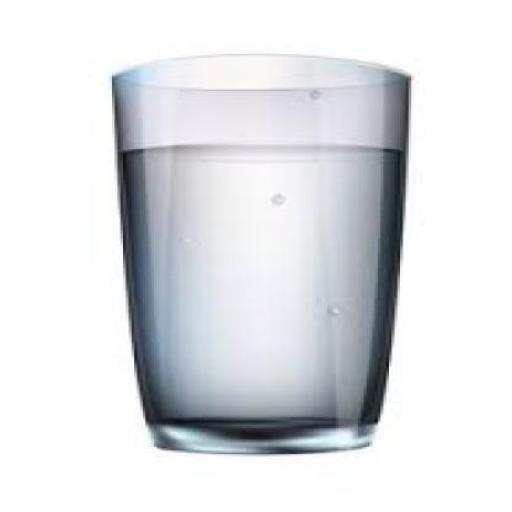glass: (109, 52, 405, 450)
